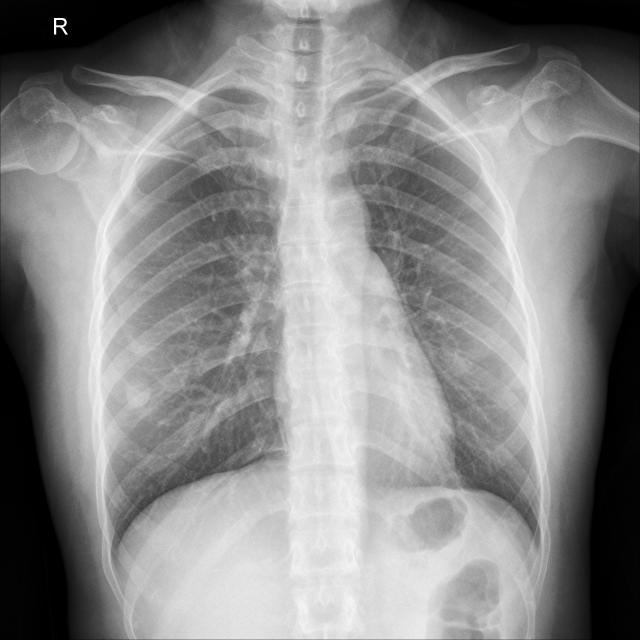no-pneumonia: (337, 76, 549, 557), (94, 88, 283, 548)
